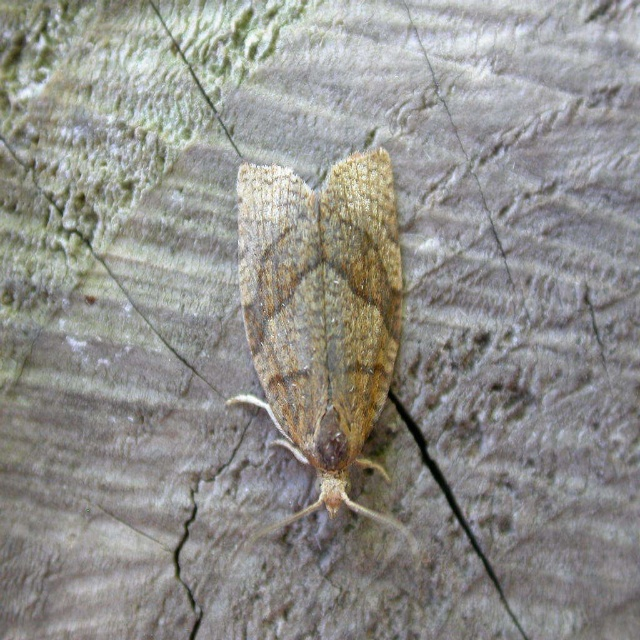Moths and butterflies: (224, 145, 426, 566)
